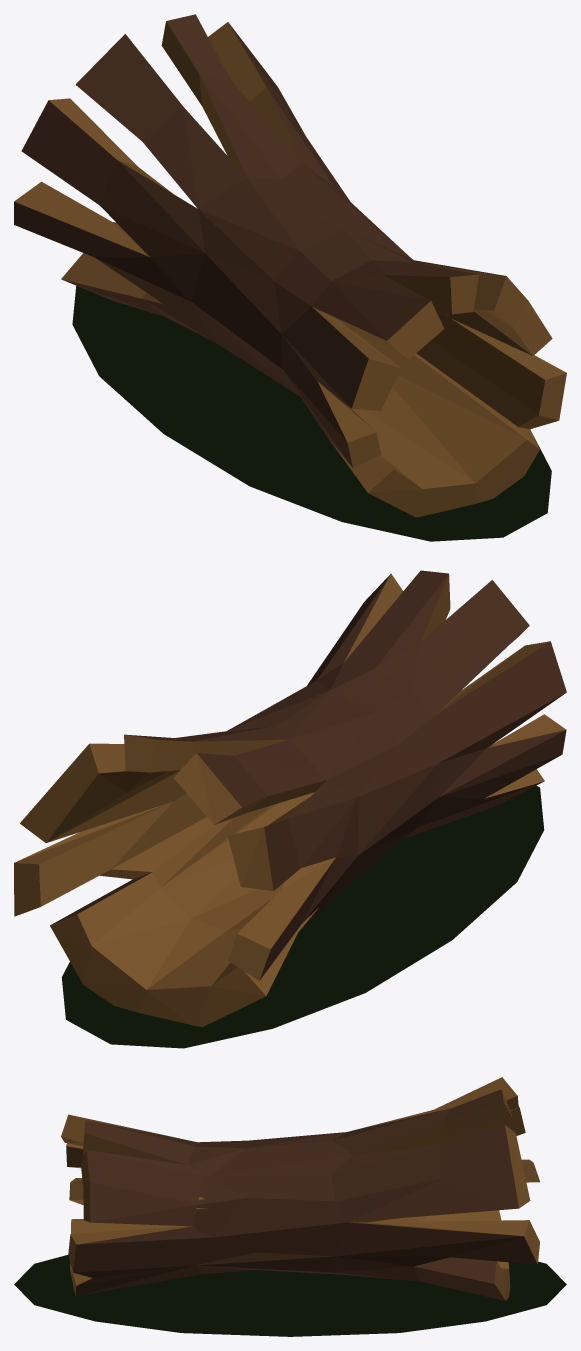
File: Kłoda.fbx
3 renders of one model, top to bottom at view 1: azimuth 30°, elevation 25°; view 2: azimuth 150°, elevation 25°; view 3: azimuth 270°, elevation 25°, orthographic. The views are drawn at different scales.
Visible parts, largest first — view 1: Kloda1.001; view 2: Kloda1.001; view 3: Kloda1.001.
Boxes of the visible parts, bbox=[...] form: Kloda1.001: bbox=[14, 14, 566, 541]; Kloda1.001: bbox=[14, 570, 566, 1048]; Kloda1.001: bbox=[14, 1077, 566, 1336].
Size of the model in its own units: 75.47 by 67.49 by 168.
